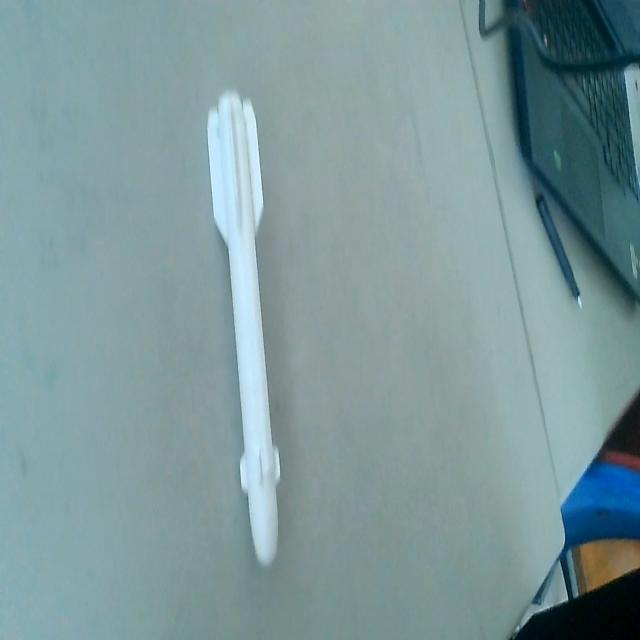Rocket: (206, 91, 284, 578)
